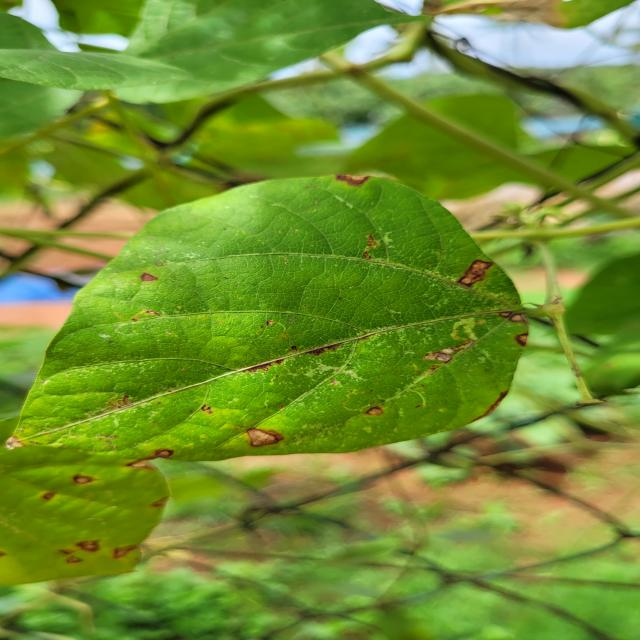Dolicos bean_cercospora leaf spot: (6, 176, 533, 462), (0, 438, 178, 588)
Dolicos bean_healthy: (100, 0, 418, 105)
